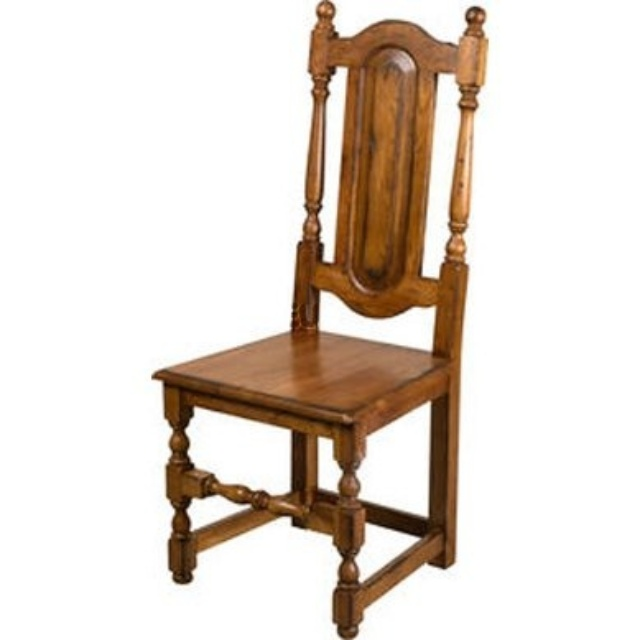obstacle: (153, 0, 485, 638)
